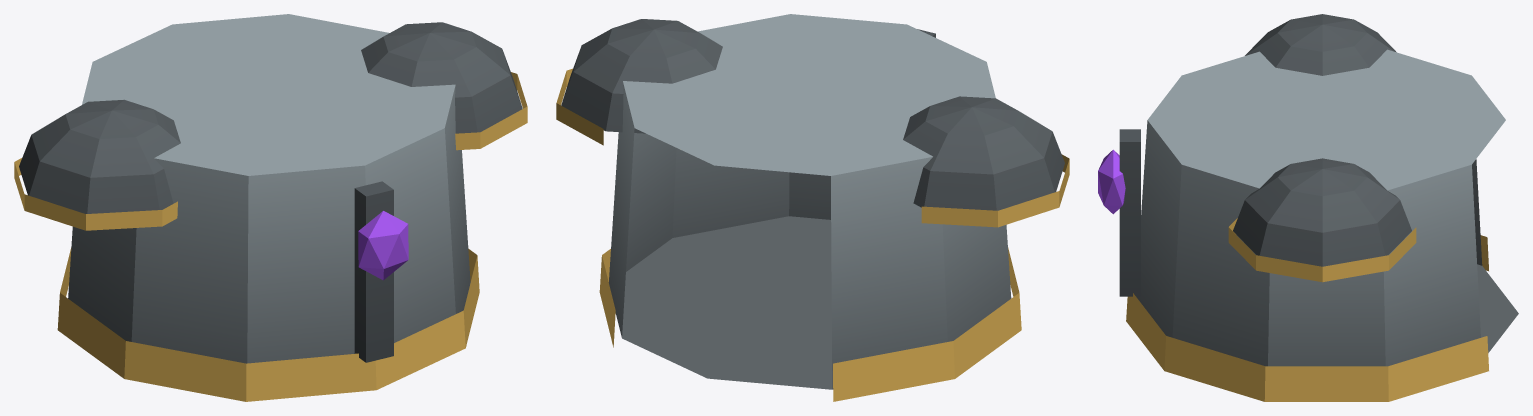
Rendered from engineer_guard_chest_t3.glb.
3 views of the same model, side by side, from view 1: azimuth 30°, elevation 25°; view 2: azimuth 150°, elevation 25°; view 3: azimuth 270°, elevation 25° (orthographic). The views are drawn at different scales.
Visible parts, largest first — view 1: engineer_guard_chest_t3__chest; view 2: engineer_guard_chest_t3__chest; view 3: engineer_guard_chest_t3__chest.
Part boxes in pixels (bbox=[...]): engineer_guard_chest_t3__chest: bbox=[14, 14, 527, 401]; engineer_guard_chest_t3__chest: bbox=[556, 14, 1069, 401]; engineer_guard_chest_t3__chest: bbox=[1098, 14, 1518, 401].
Size of the model in its own units: 1.24 by 0.58 by 0.9857.
Materials: 2 (1 with a texture image).
